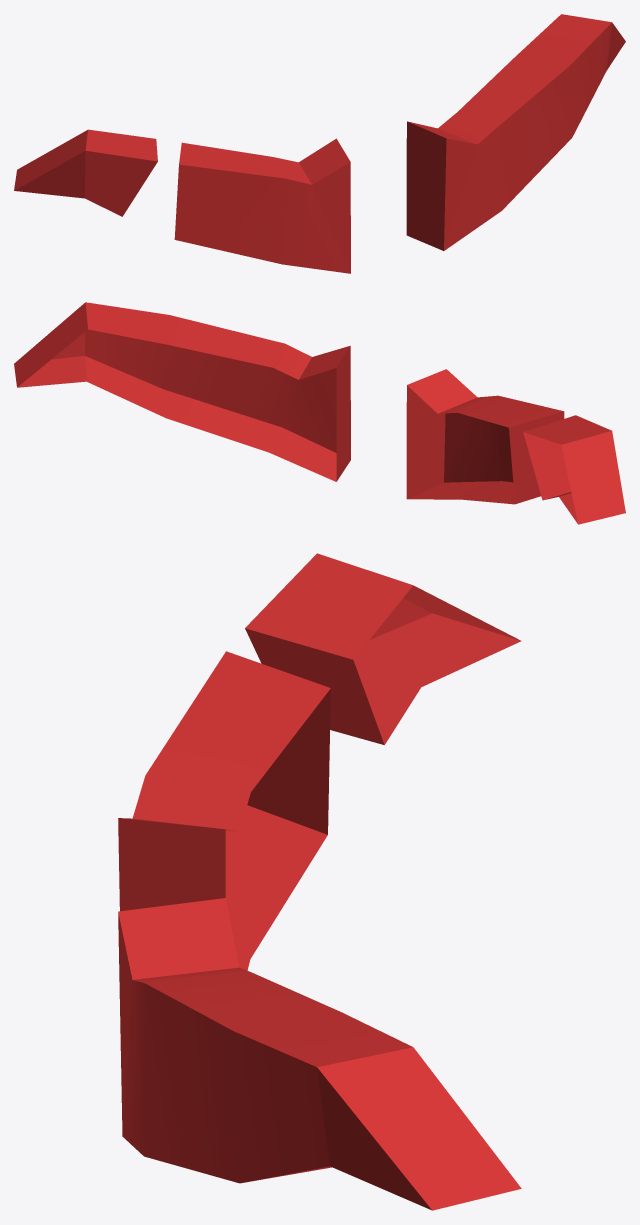
File: Brow_Red_9.fbx
3 views of the same model, one above another, from view 1: azimuth 30°, elevation 25°; view 2: azimuth 150°, elevation 25°; view 3: azimuth 270°, elevation 25° (orthographic). The views are drawn at different scales.
Parts seen in each view (by area): view 1: Brow_Red_9; view 2: Brow_Red_9; view 3: Brow_Red_9.
Boxes of the visible parts, <box> form: Brow_Red_9: <box>14,14,625,273</box>; Brow_Red_9: <box>14,302,625,524</box>; Brow_Red_9: <box>118,553,521,1210</box>.
Bounding box in the file's own units: 41.99 × 9.24 × 11.99.
